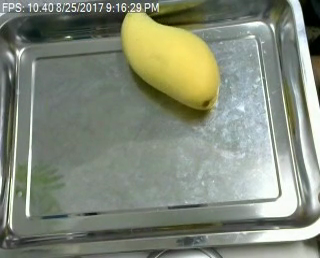Mango: (116, 5, 222, 113)
